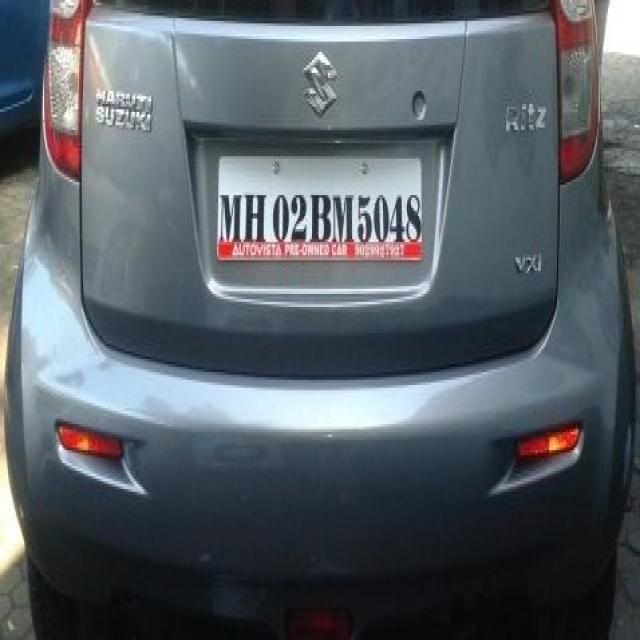Plate: (217, 155, 423, 259)
